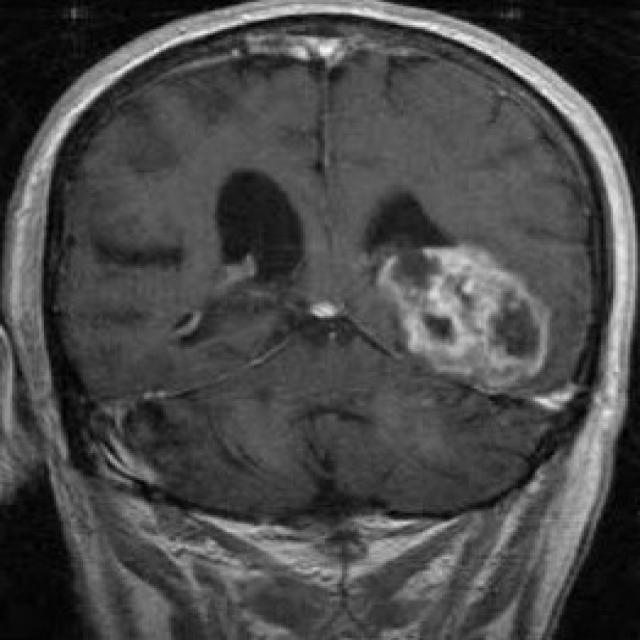brain_tumor: (376, 246, 550, 392), (245, 36, 347, 69)
